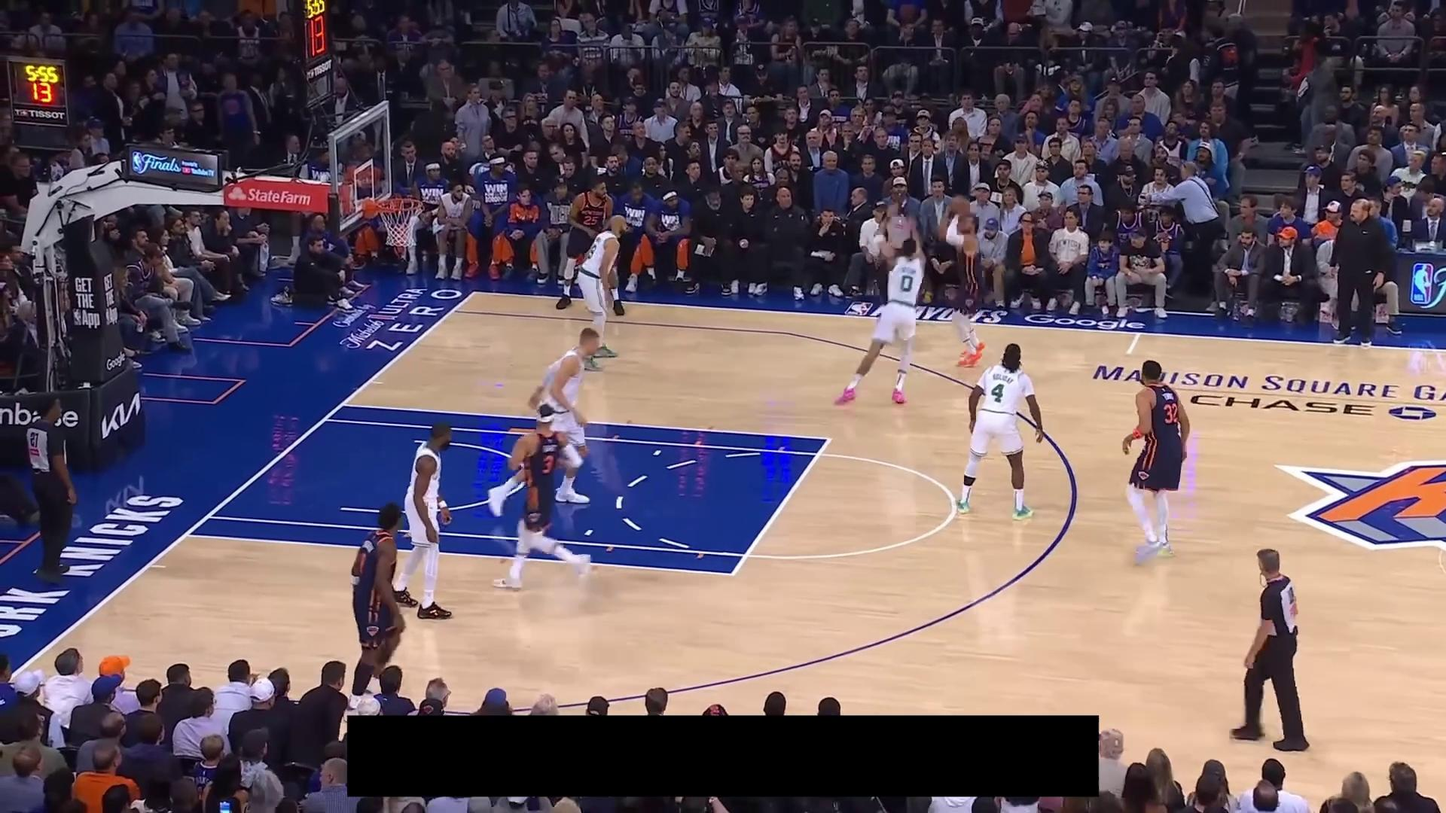ball: (949, 193, 971, 217)
number: (1164, 402, 1178, 425), (991, 382, 1005, 403), (900, 274, 914, 293), (542, 454, 554, 474), (583, 215, 597, 226)
player: (487, 327, 600, 517), (492, 403, 591, 589), (954, 341, 1045, 522), (1121, 358, 1192, 568), (346, 502, 407, 708), (392, 420, 453, 620), (556, 177, 626, 316), (573, 215, 626, 373)
player-in-possession: (937, 191, 990, 369)
player-shot-block: (837, 202, 927, 407)
referee: (1228, 548, 1311, 752), (25, 395, 80, 585), (874, 199, 920, 316)
rim: (376, 197, 424, 212)
